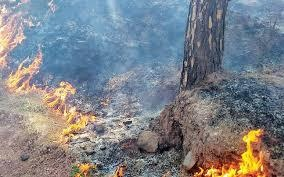fire: (1, 49, 99, 144), (192, 126, 268, 177), (75, 161, 95, 175), (114, 164, 127, 176)
